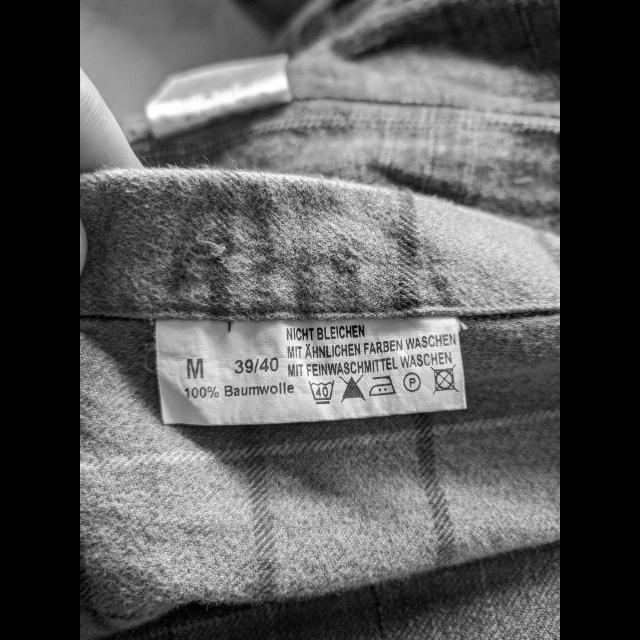40C: (307, 379, 337, 405)
DN_bleach: (338, 372, 368, 403)
DN_tumble_dry: (429, 364, 461, 396)
iron_medium: (369, 374, 397, 398)
normal_dry_clean_solvents: (402, 372, 422, 394)
